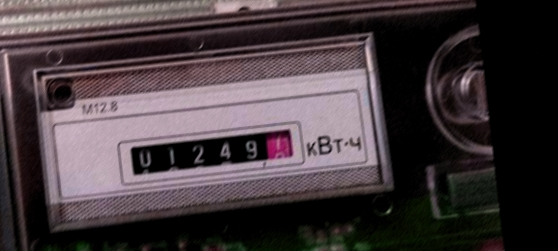0: (136, 146, 153, 168)
1: (163, 144, 178, 166)
2: (188, 141, 207, 165)
4: (217, 138, 232, 160)
7: (270, 129, 285, 151)
9: (243, 137, 258, 160)
screen: (113, 116, 308, 187)
